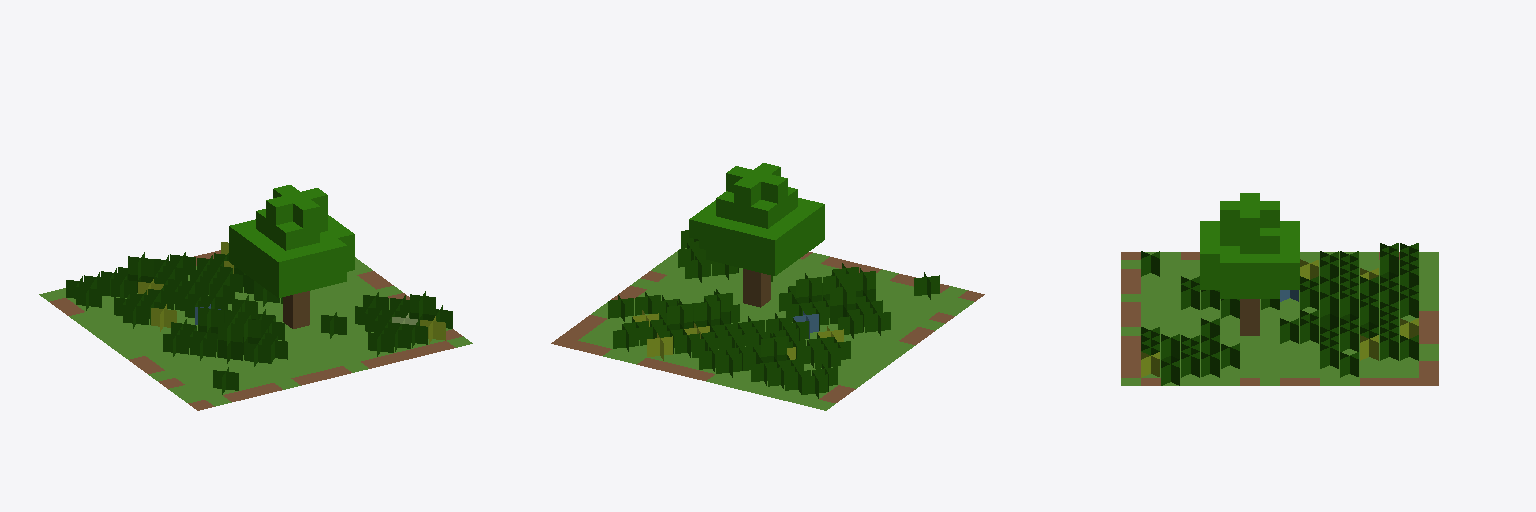
The model's file is tree_tile_test.obj.
3 views of the same model, side by side, from view 1: azimuth 30°, elevation 25°; view 2: azimuth 150°, elevation 25°; view 3: azimuth 270°, elevation 25° (orthographic).
Bounding box in the file's own units: 16 × 7 × 16.